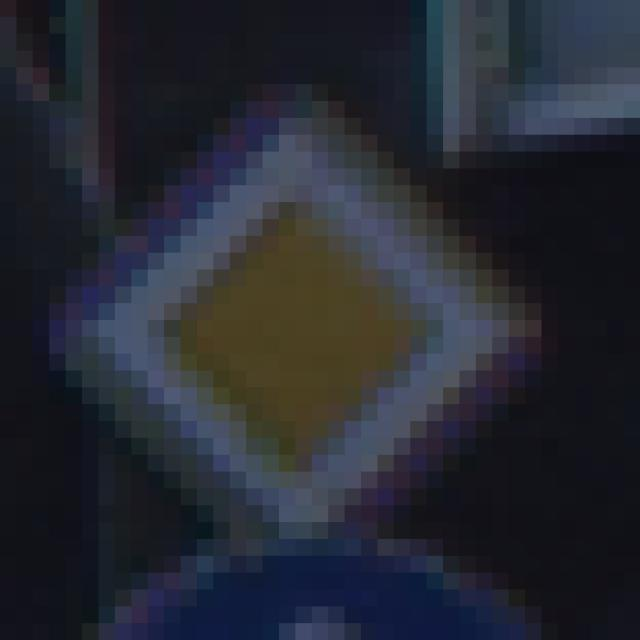Main Road: (83, 85, 559, 557)
